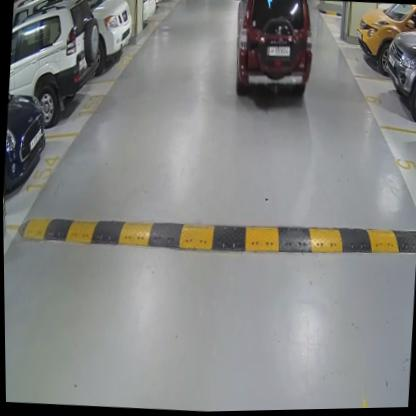np: (267, 46, 290, 60)
